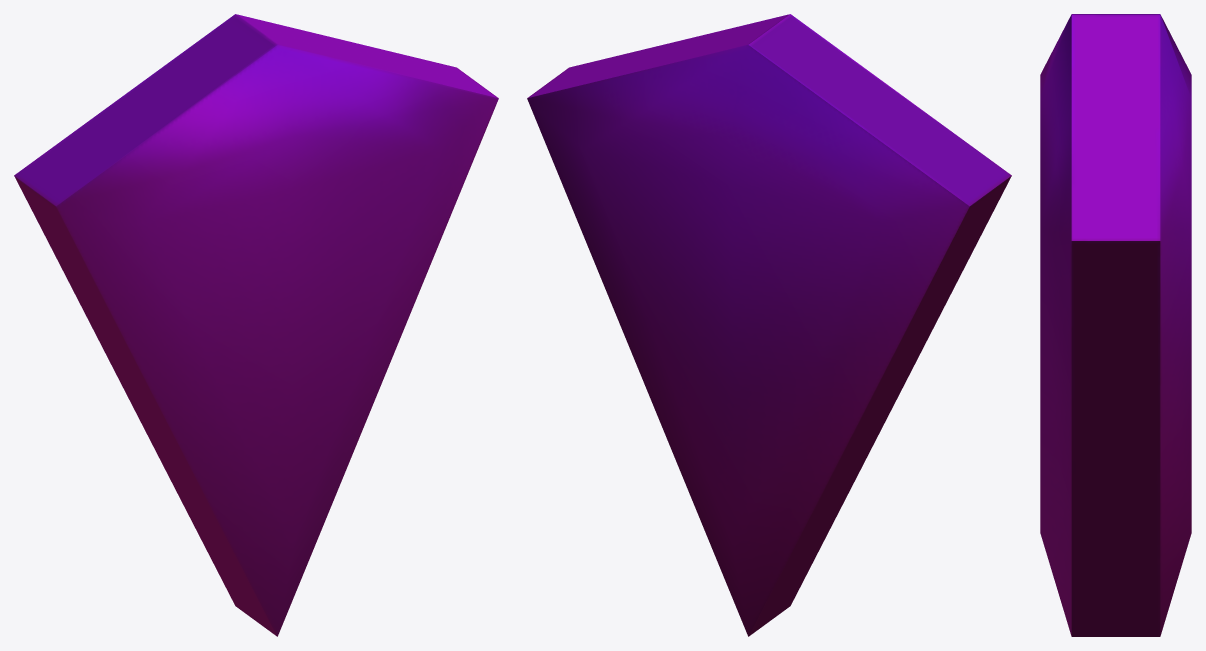
File: GemaMoradaTexReady.fbx
The picture shows the model from 3 angles, left to right: view 1: azimuth 30°, elevation 25°; view 2: azimuth 150°, elevation 25°; view 3: azimuth 270°, elevation 25°; orthographic projection. The views are drawn at different scales.
Parts seen in each view (by area): view 1: MoradoCristal1; view 2: MoradoCristal1; view 3: MoradoCristal1.
Part boxes in pixels (box(x1,y1,x2,y2)): MoradoCristal1: box(14, 14, 498, 636); MoradoCristal1: box(527, 14, 1011, 636); MoradoCristal1: box(1040, 14, 1191, 636).
Size of the model in its own units: 1.65 by 2.11 by 0.4646.
